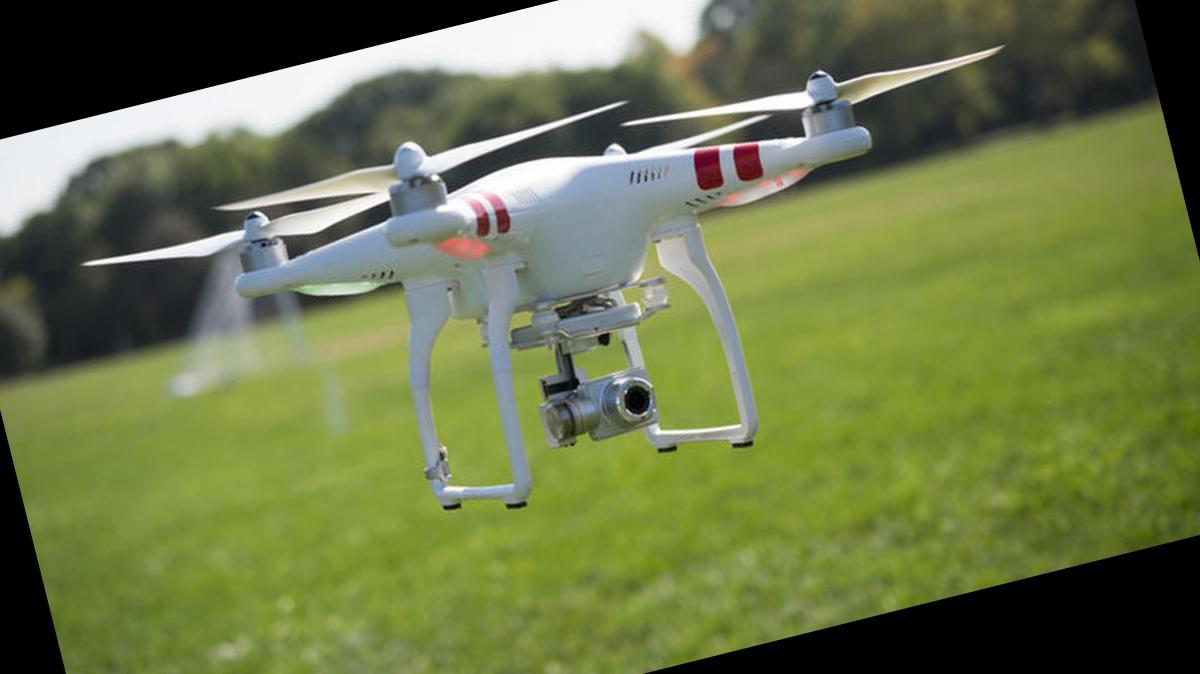drone: (76, 0, 1078, 529)
